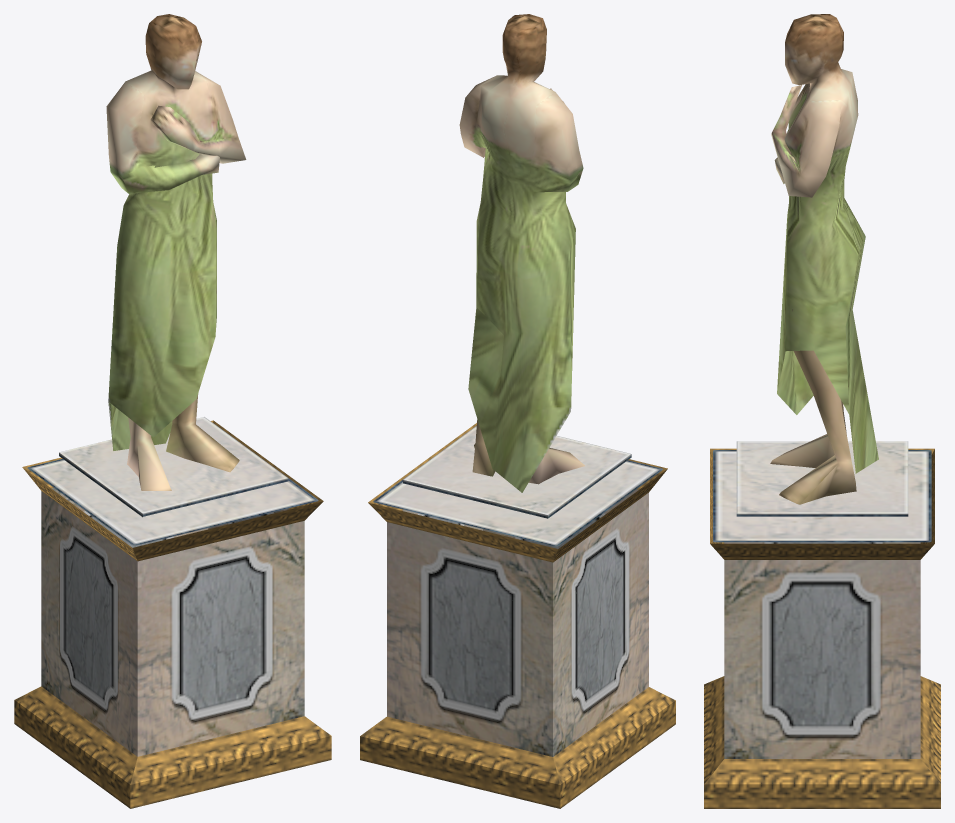
The model's file is rome_statue_2.dae.
3 views of the same model, side by side, from view 1: azimuth 30°, elevation 25°; view 2: azimuth 150°, elevation 25°; view 3: azimuth 270°, elevation 25° (orthographic). The views are drawn at different scales.
Parts seen in each view (by area): view 1: rome_statue_2; view 2: rome_statue_2; view 3: rome_statue_2.
Boxes of the visible parts, x1=… form: rome_statue_2: x1=14, y1=14, x2=331, y2=808; rome_statue_2: x1=360, y1=14, x2=675, y2=808; rome_statue_2: x1=704, y1=14, x2=940, y2=808.
Bounding box in the file's own units: 2.7 × 2.7 × 9.31.
